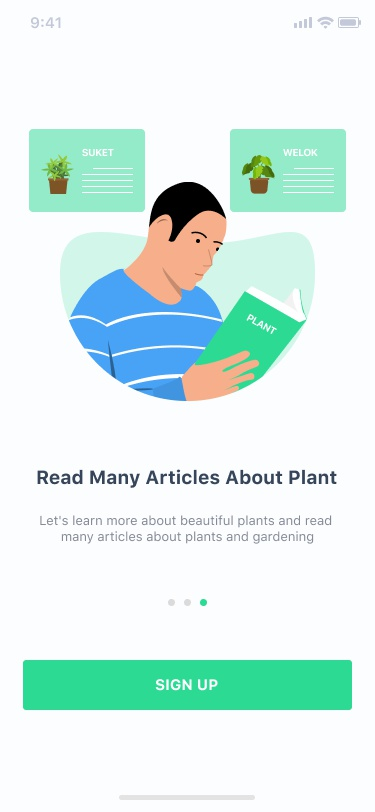Image: (30, 129, 347, 402)
PageIndicator: (168, 598, 209, 607)
Text: (40, 514, 332, 546), (37, 469, 338, 489)
TextButton: (24, 660, 353, 711)
UpperTaskBar: (31, 17, 362, 31)
